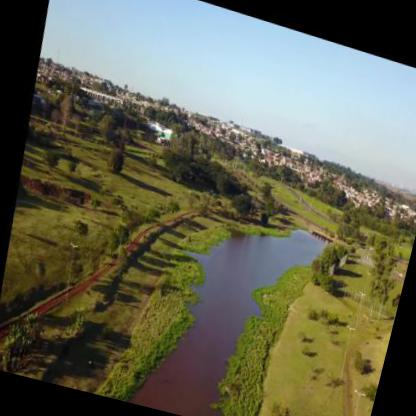agua: (161, 245, 252, 415), (214, 222, 285, 313)
